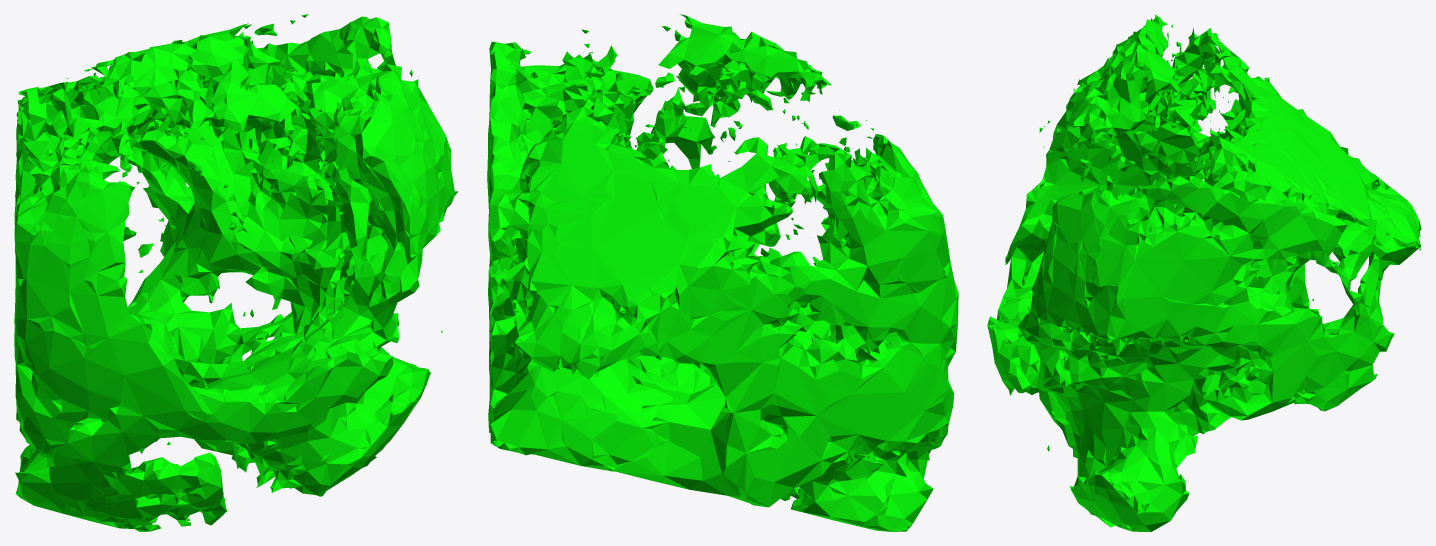
File: B939XXXX-1_base_1.obj
3 renders of one model, left to right at view 1: azimuth 30°, elevation 25°; view 2: azimuth 150°, elevation 25°; view 3: azimuth 270°, elevation 25°, orthographic. The views are drawn at different scales.
Visible parts, largest first — view 1: 1_base; view 2: 1_base; view 3: 1_base.
Part boxes in pixels (left/top/right/bottom): 1_base: left=14, top=14, right=457, bottom=531; 1_base: left=487, top=14, right=958, bottom=531; 1_base: left=987, top=14, right=1421, bottom=531.
Size of the model in its own units: 216 by 218 by 203.
